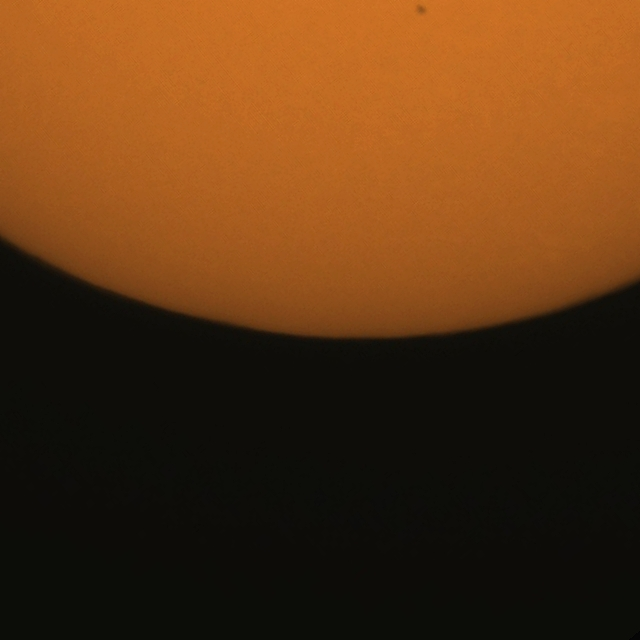sunspot: (414, 2, 428, 17)
